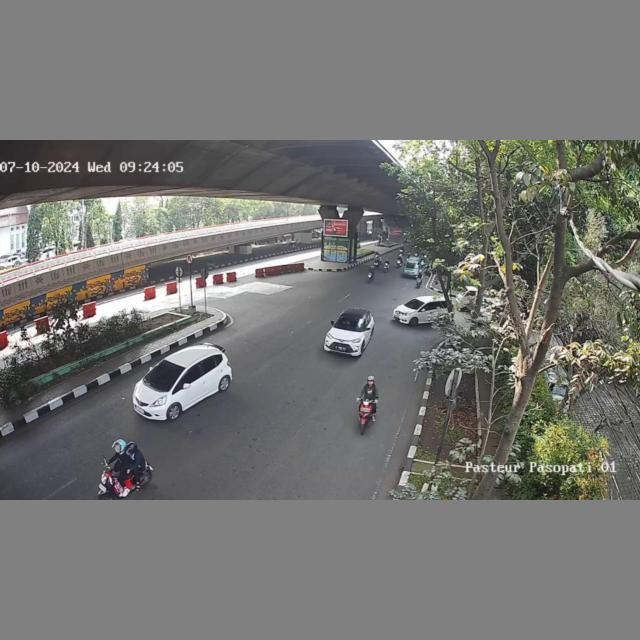windshield: (145, 359, 186, 387), (333, 314, 368, 332), (406, 299, 425, 310)
